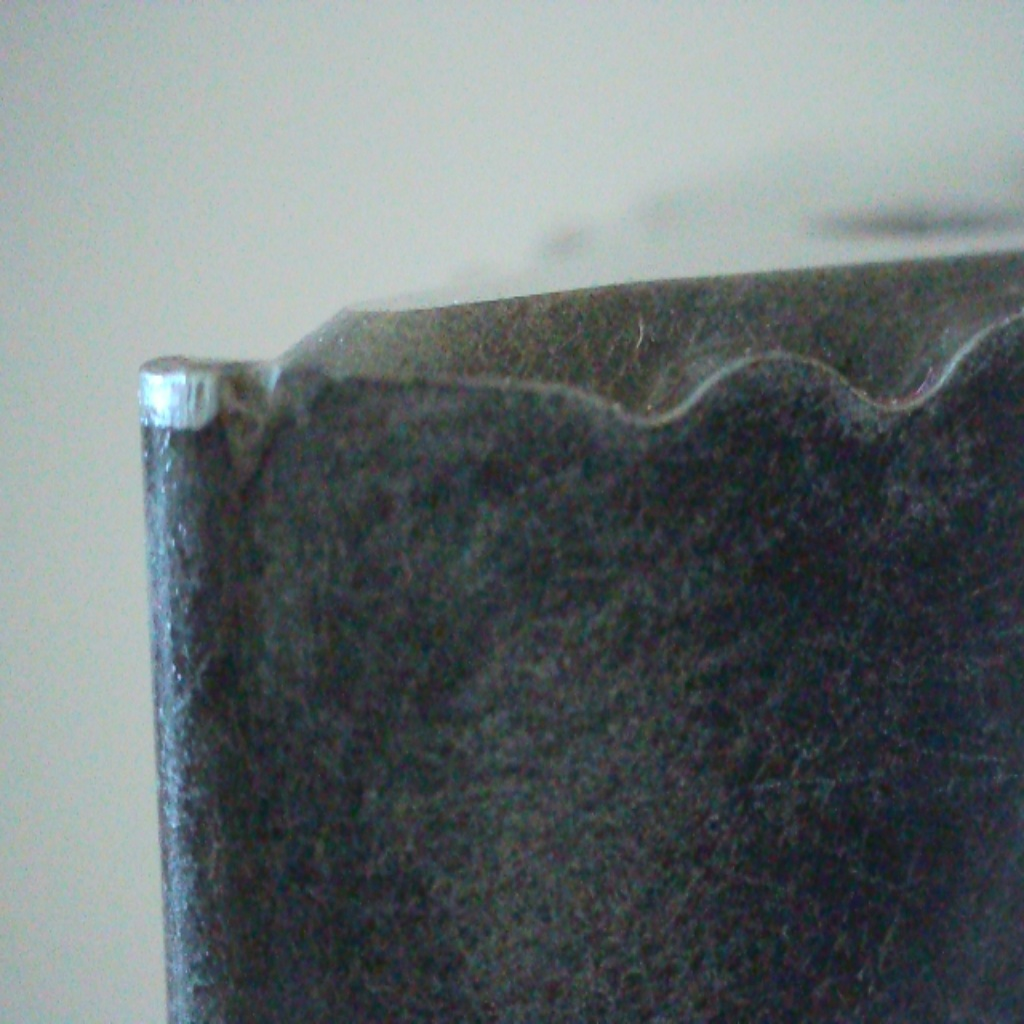flank_wear: (122, 352, 312, 496)
